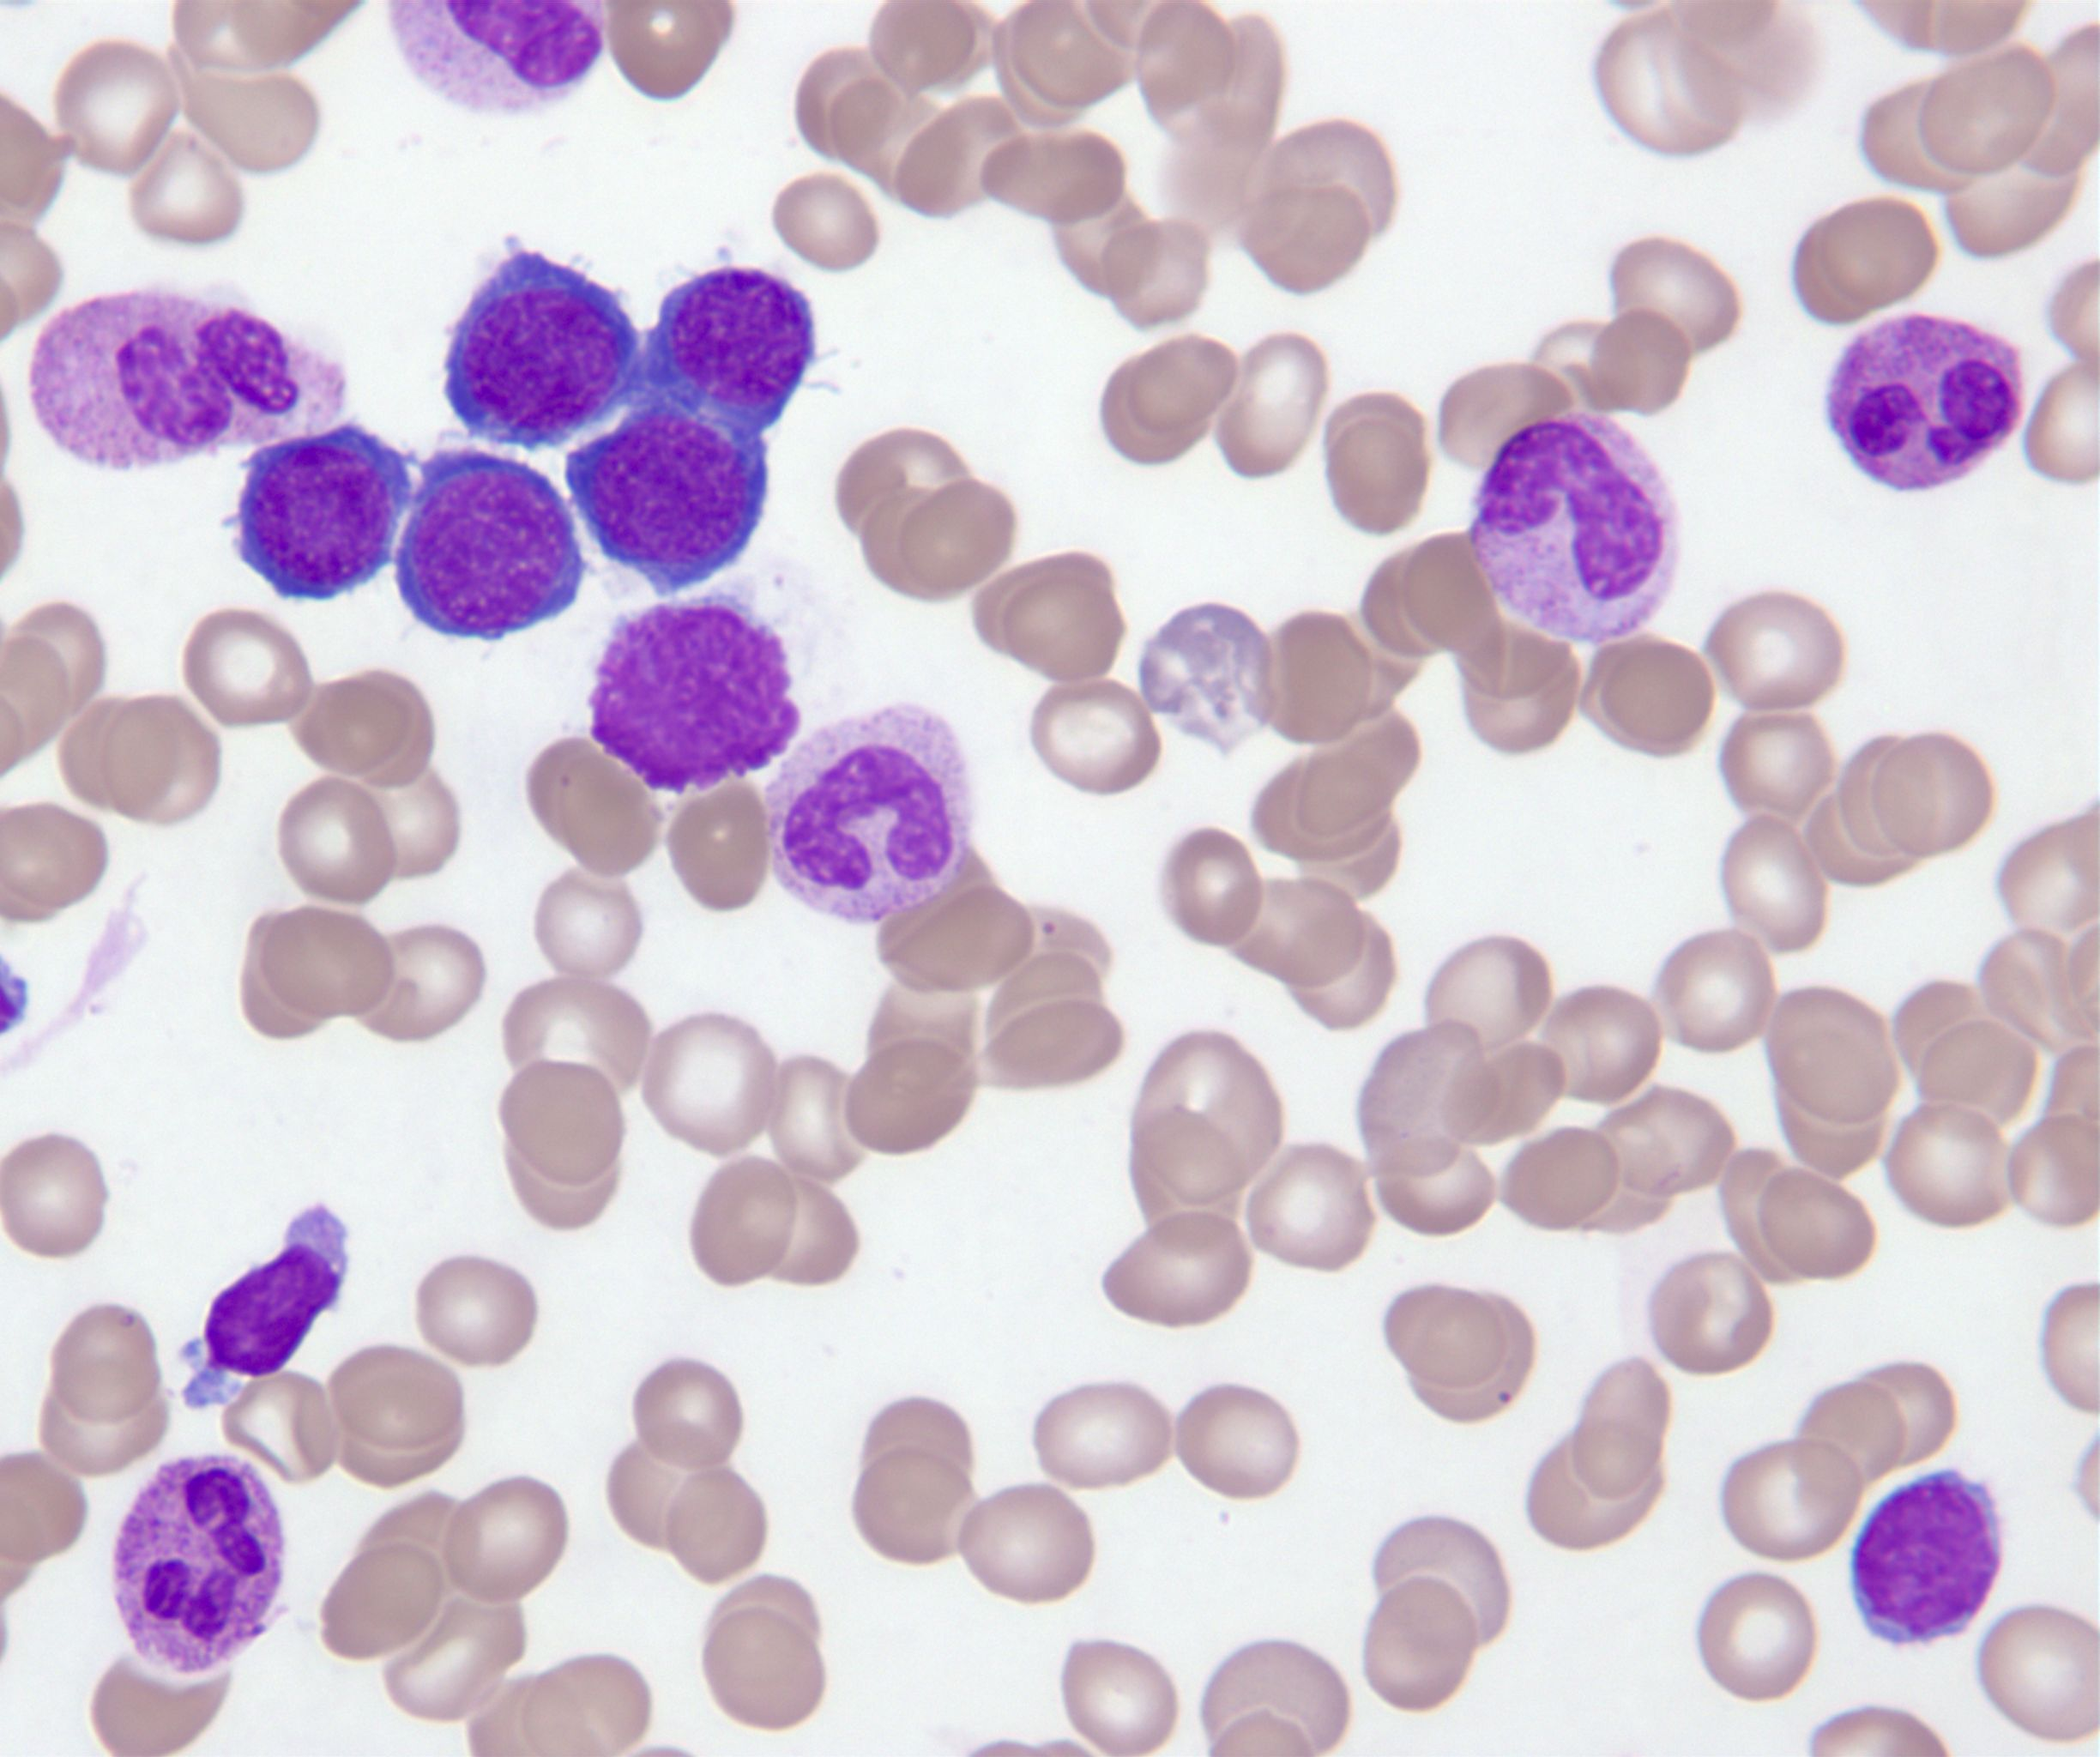23: (567, 398, 767, 598), (445, 255, 638, 452), (396, 448, 584, 640), (628, 267, 815, 438), (239, 422, 408, 600)
32: (180, 1206, 347, 1410), (1851, 1469, 1999, 1645)
5: (31, 293, 344, 468), (1470, 412, 1678, 644), (762, 707, 970, 921)
6: (113, 1455, 284, 1675), (1828, 316, 2022, 492)
x: (583, 600, 799, 796), (389, 0, 603, 115)
